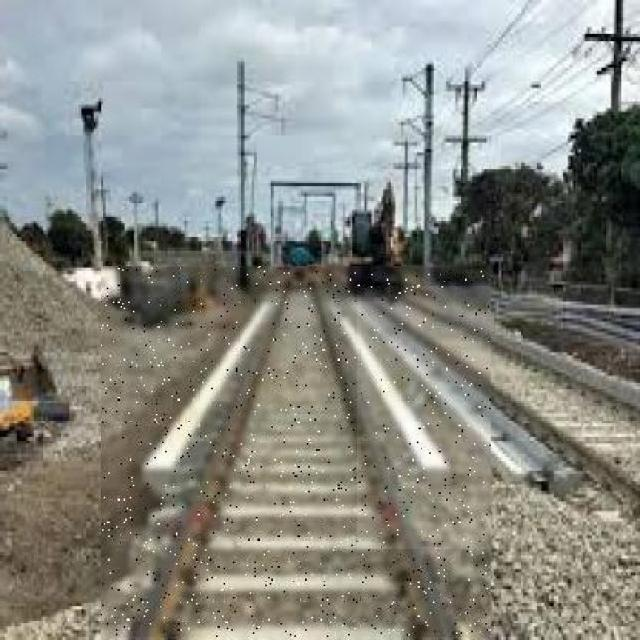rail: (102, 269, 490, 638), (358, 288, 640, 550)
